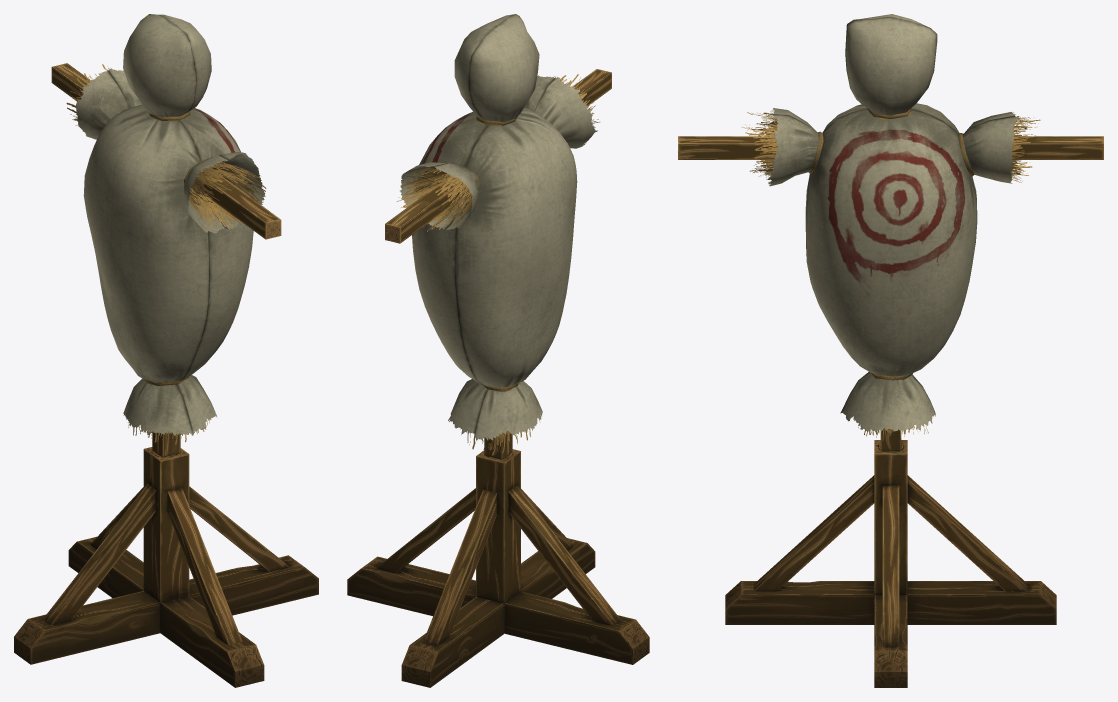
The model's file is Training dummy.fbx.
3 views of the same model, side by side, from view 1: azimuth 30°, elevation 25°; view 2: azimuth 150°, elevation 25°; view 3: azimuth 270°, elevation 25° (orthographic).
Visible parts, largest first — view 1: Training dummy; view 2: Training dummy; view 3: Training dummy.
Boxes of the visible parts, <box> form: Training dummy: <box>14,14,318,687</box>; Training dummy: <box>347,14,649,687</box>; Training dummy: <box>678,14,1103,687</box>.
Bounding box in the file's own units: 0.7958 × 1.59 × 1.02.
Materials: 1 (1 with a texture image).
